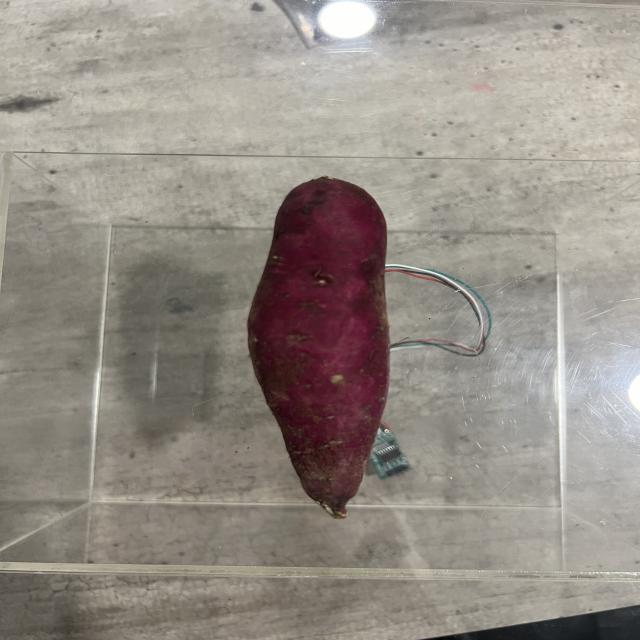sweet potato: (244, 178, 397, 511)
